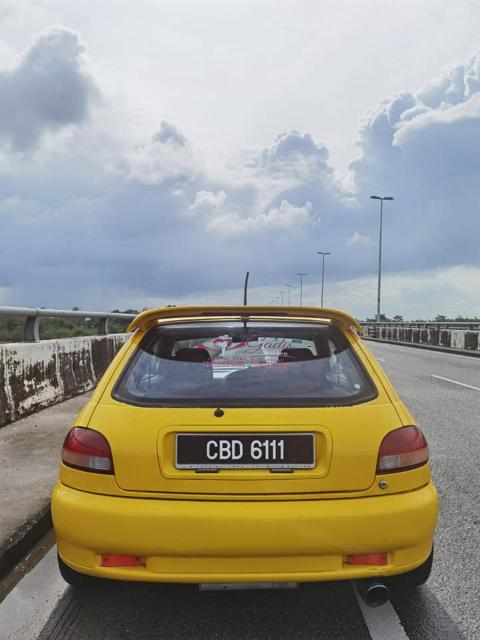License_Plate: (189, 437, 300, 468)
car: (44, 298, 444, 603)
